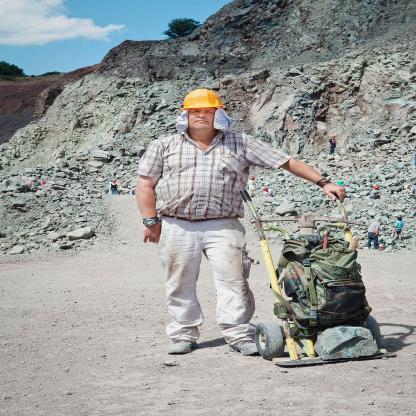person: (134, 66, 298, 366)
